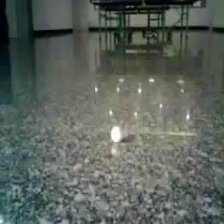w: (109, 124, 123, 144)
